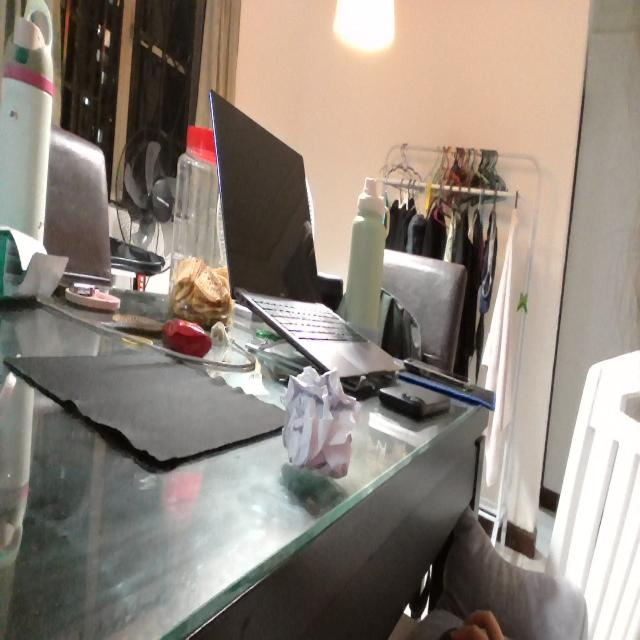crumpled_paper: (280, 361, 360, 483)
